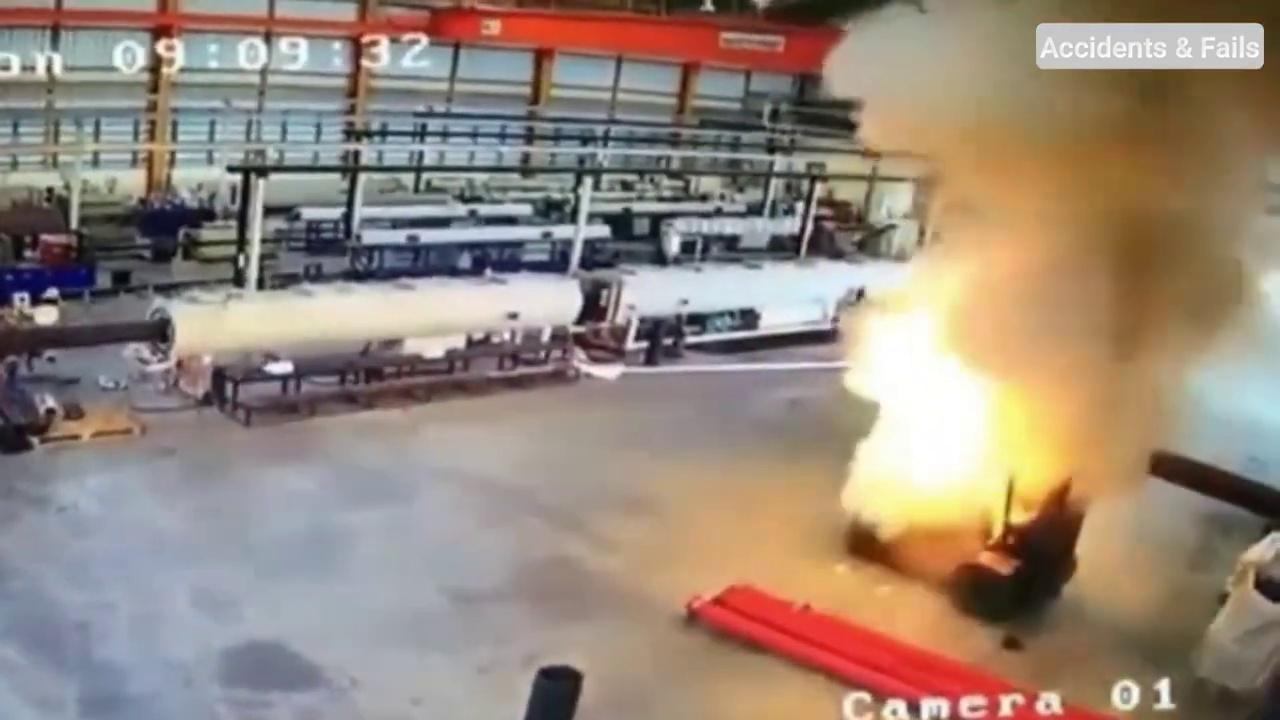fire: (771, 83, 1246, 583)
